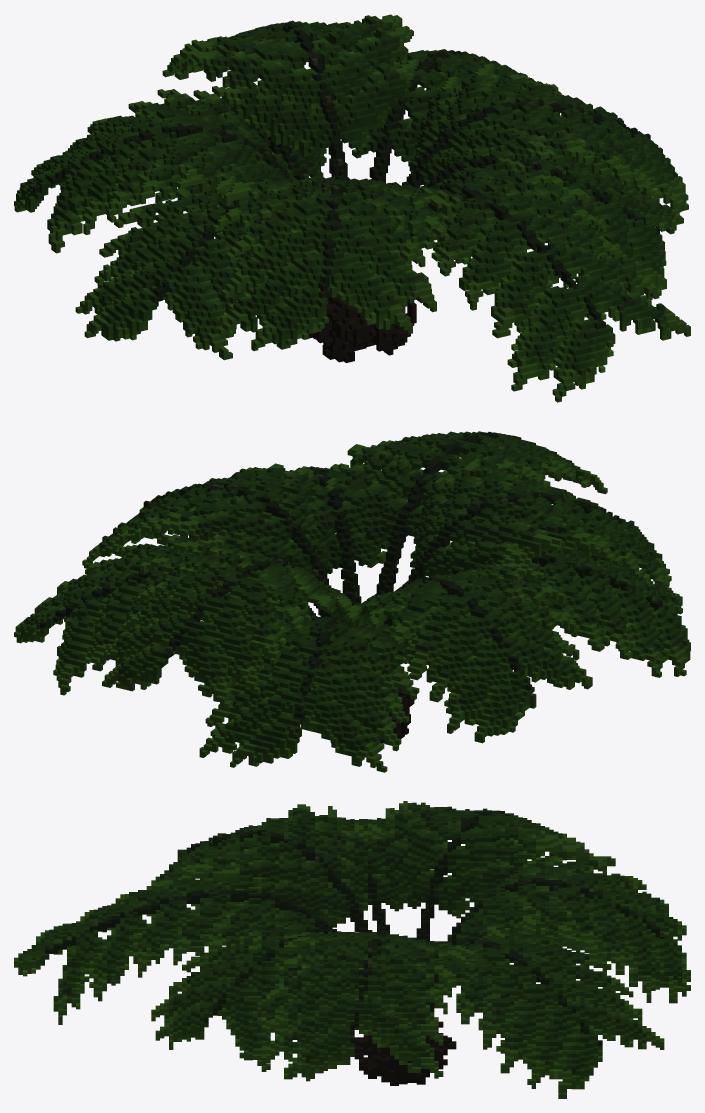
File: samambaia_larga_hero_01_LOD0.fbx
The picture shows the model from 3 angles, top to bottom: view 1: azimuth 30°, elevation 25°; view 2: azimuth 150°, elevation 25°; view 3: azimuth 270°, elevation 25°; orthographic projection. The views are drawn at different scales.
Parts seen in each view (by area): view 1: samambaia_larga_hero_01_LOD0; view 2: samambaia_larga_hero_01_LOD0; view 3: samambaia_larga_hero_01_LOD0.
Boxes of the visible parts, x1,y1,x2,y2 form: samambaia_larga_hero_01_LOD0: [14, 14, 690, 402]; samambaia_larga_hero_01_LOD0: [14, 431, 690, 772]; samambaia_larga_hero_01_LOD0: [14, 801, 690, 1098].
Bounding box in the file's own units: 419 × 162 × 478.
